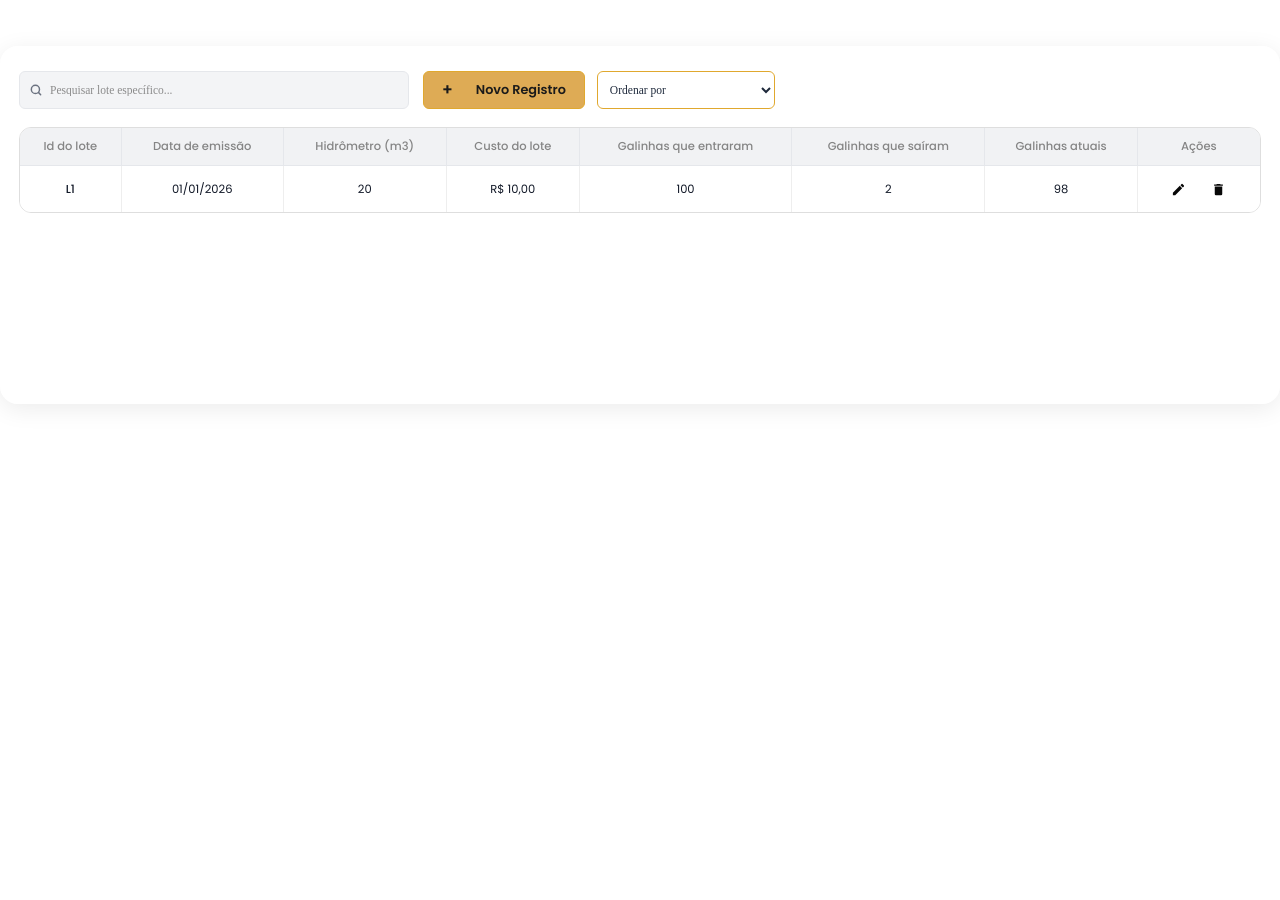
Editar lote L1 › confirma exclusão e mostra falhas sem perder os dados
The image size is (1280, 900).
Click the button named "Excluir lote L1" at [1219, 189], box [1204, 174, 1234, 204]
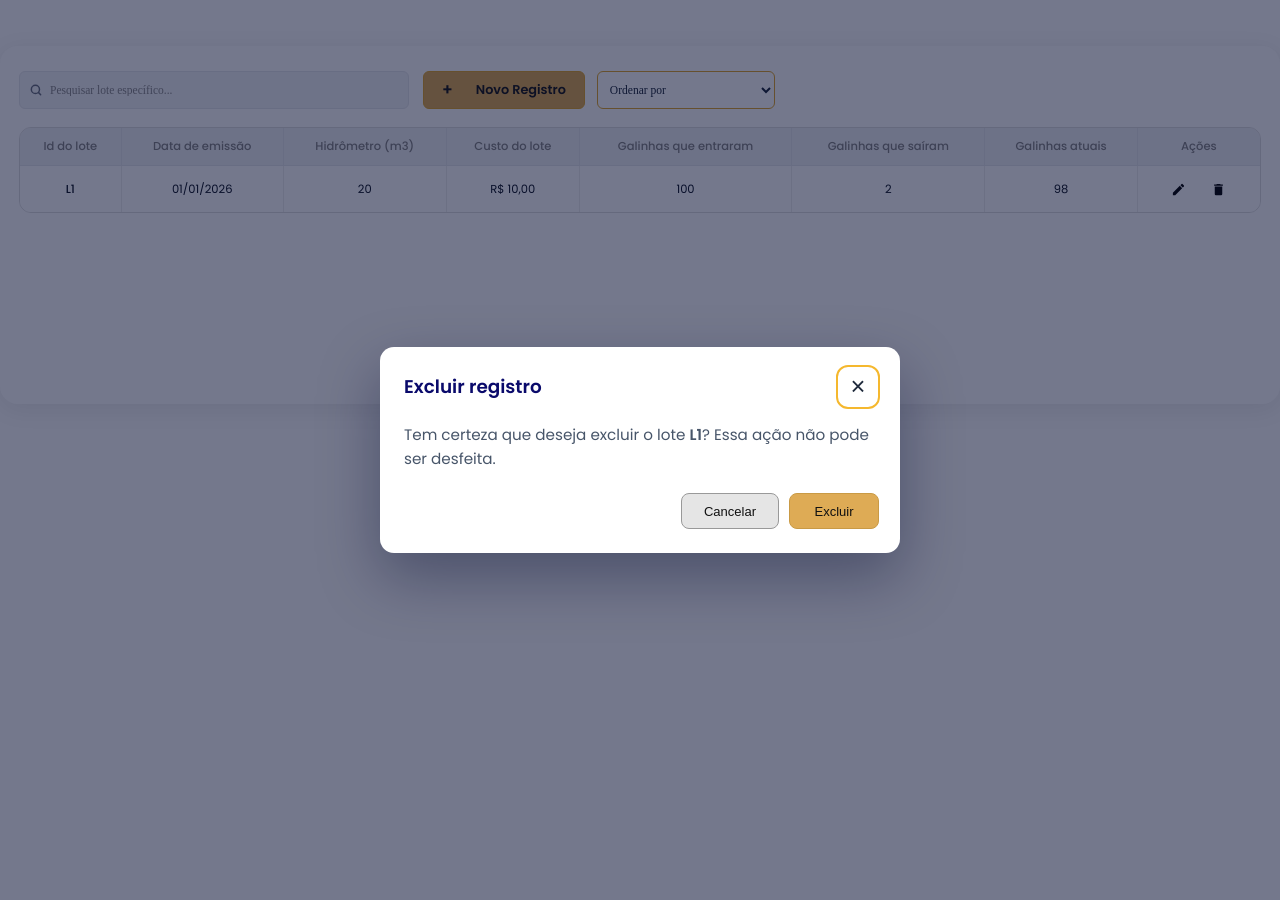
Click the button "Excluir" at [834, 511], box [789, 493, 879, 529]
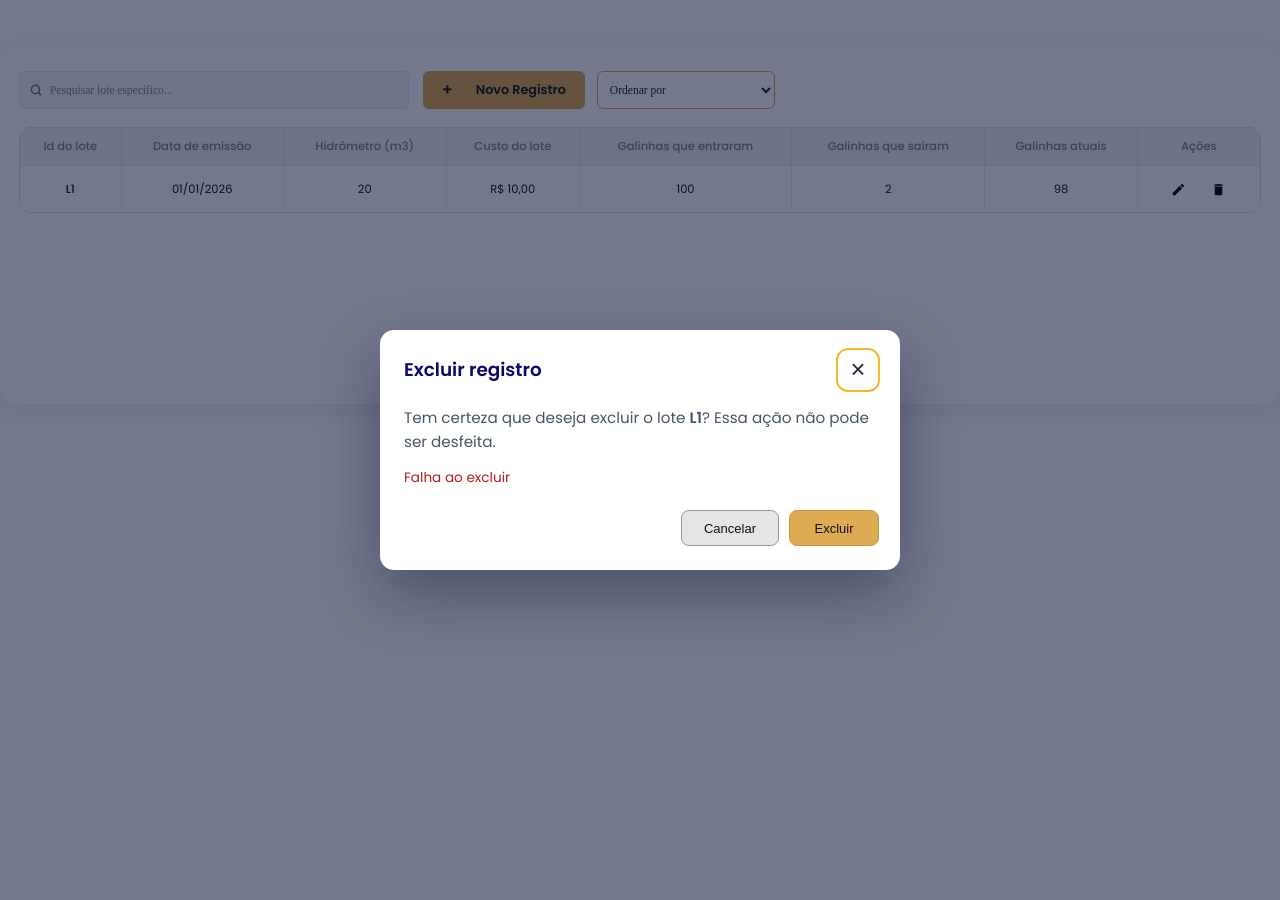
Check: the text "Falha ao excluir" is shown, box [404, 468, 510, 487]
Click the button "Excluir" at [834, 528], box [789, 510, 879, 546]
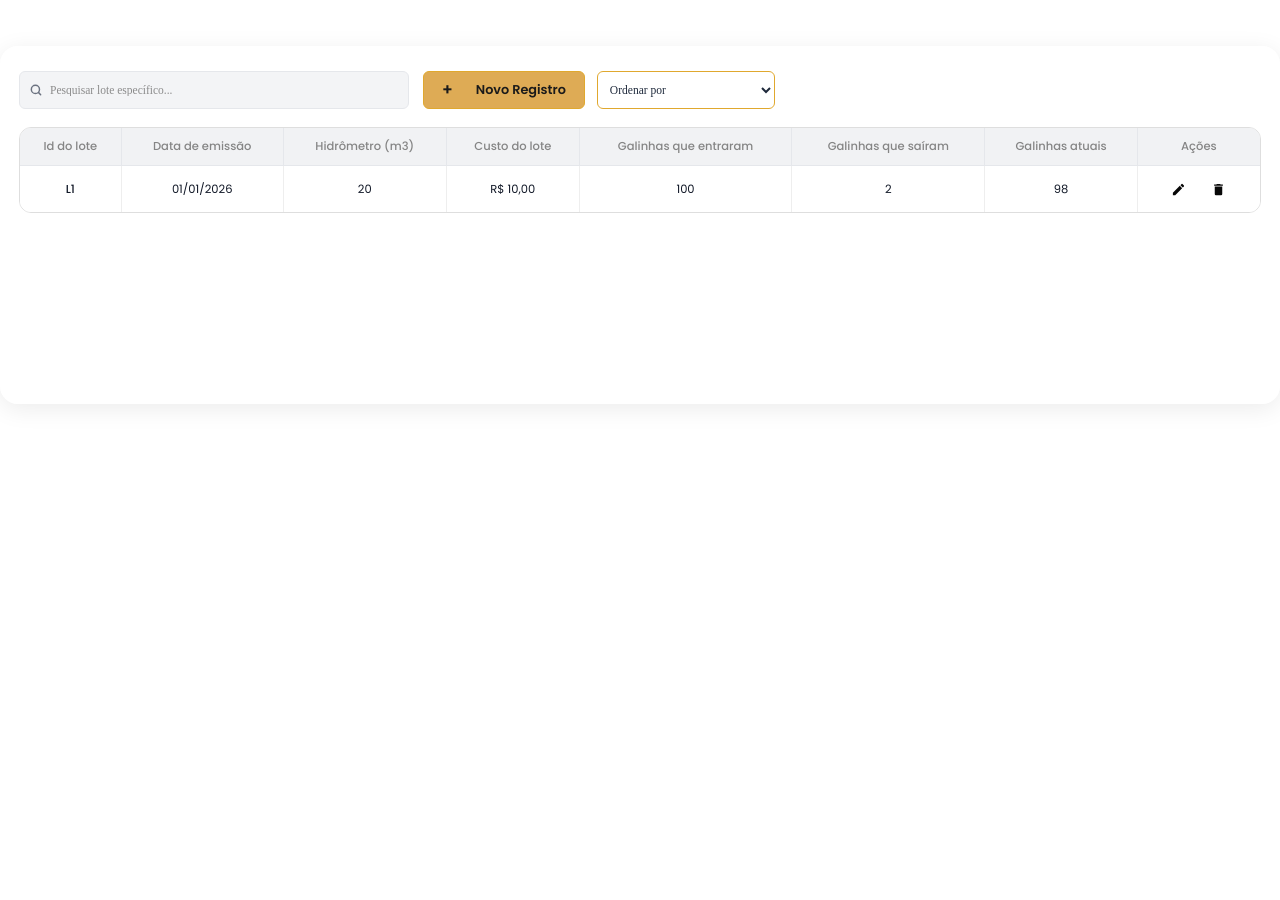
Check: the dialog is gone
